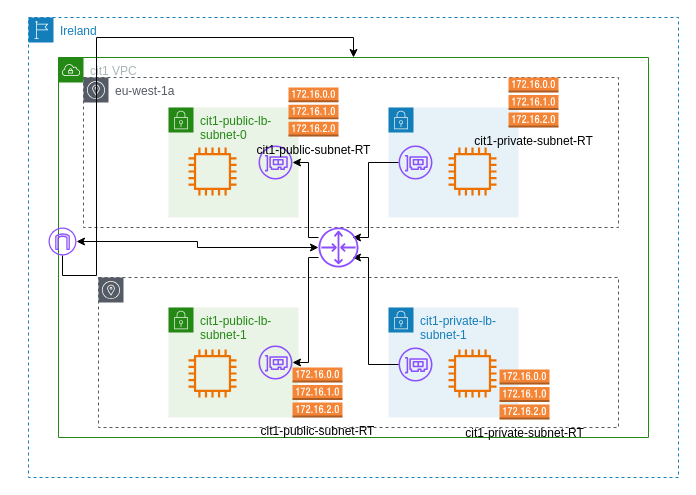
The diagram is 696 pixels wide and 495 high, and some of its shapes have lost their labels. Here are the shapes that lost their labels. From the top down, the box of each, then its label:
(188, 147, 236, 195): CIT1 Instance
(388, 106, 518, 218): cit1-private-lb-subnet-0
(48, 227, 76, 255): Internet Gateway
(98, 276, 618, 428): eu-west-1b
